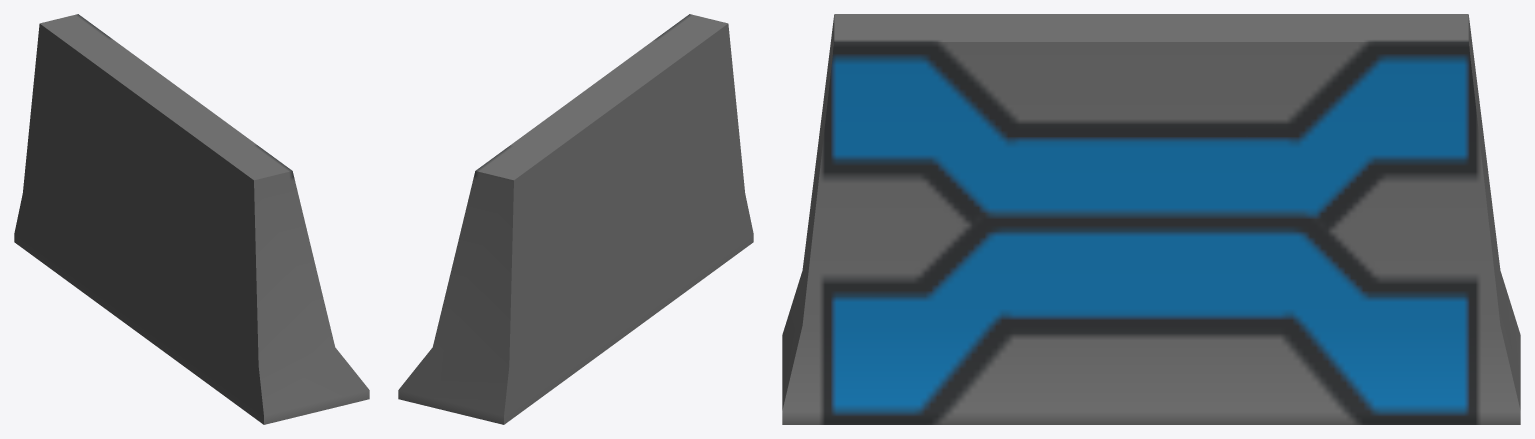
The model's file is barrier.fbx.
3 renders of one model, left to right at view 1: azimuth 30°, elevation 25°; view 2: azimuth 150°, elevation 25°; view 3: azimuth 270°, elevation 25°, orthographic. The views are drawn at different scales.
Visible parts, largest first — view 1: Barrier; view 2: Barrier; view 3: Barrier.
Part boxes in pixels (left/top/right/bottom): Barrier: left=14, top=14, right=369, bottom=424; Barrier: left=398, top=14, right=753, bottom=424; Barrier: left=782, top=14, right=1520, bottom=424.
Size of the model in its own units: 0.5189 by 1.08 by 2.12.
